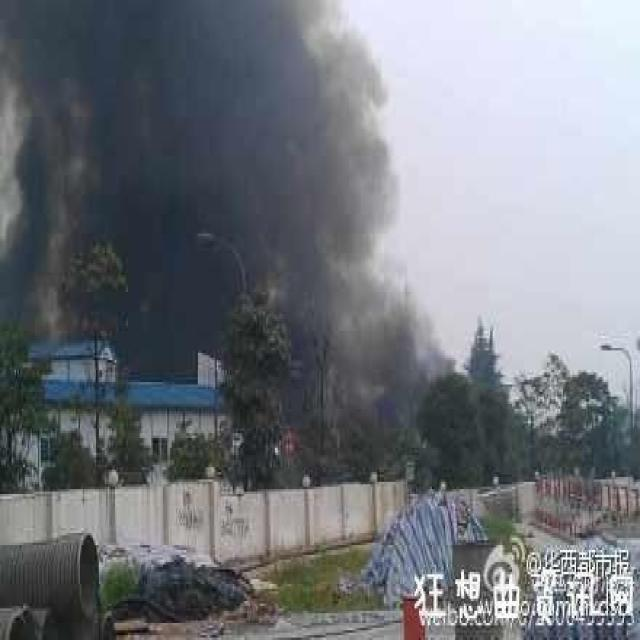Smoke: (0, 0, 459, 428)
